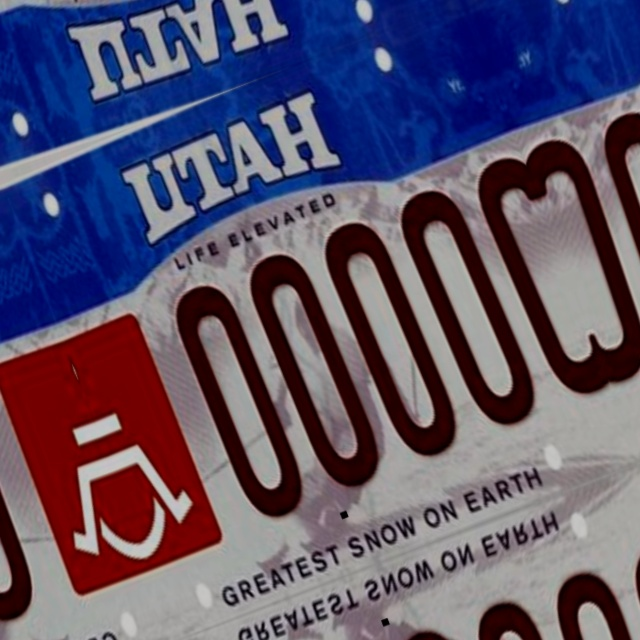ISA: (65, 323, 206, 556), (4, 347, 145, 579)
